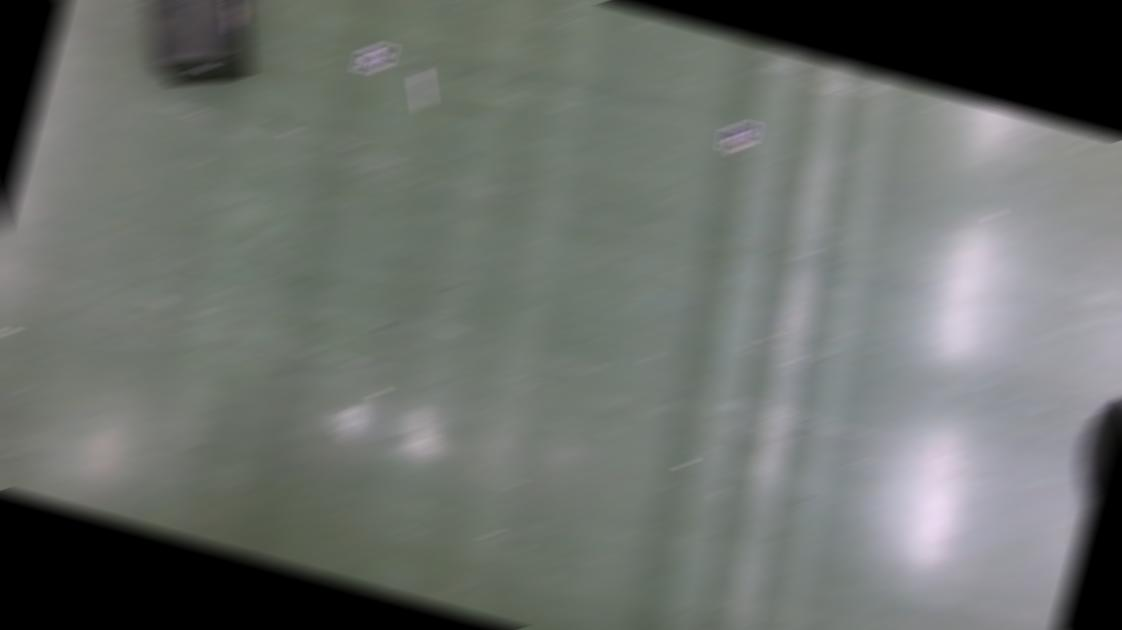probes: (406, 73, 440, 111)
rako: (111, 1, 280, 103)
